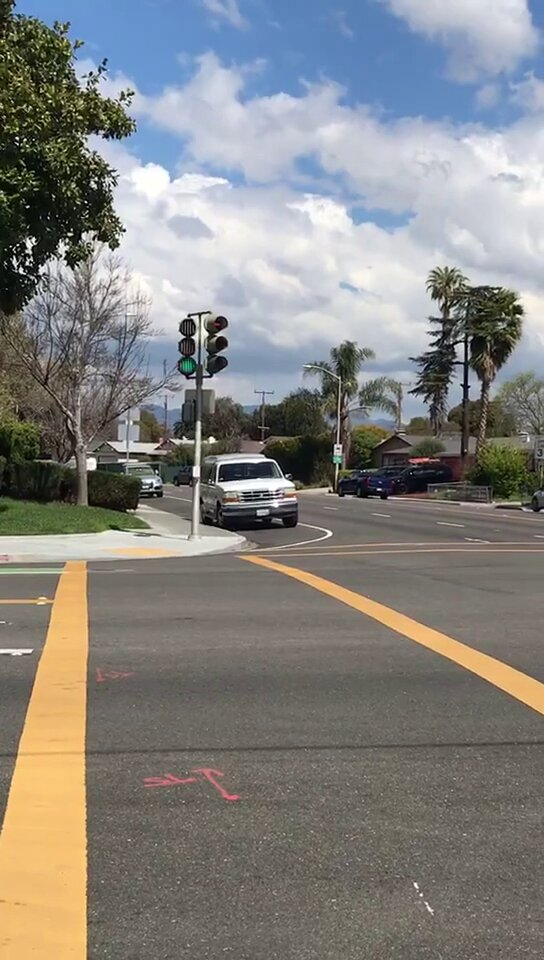green_light: (177, 315, 198, 376)
